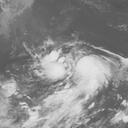cyclone: (33, 41, 112, 91)
